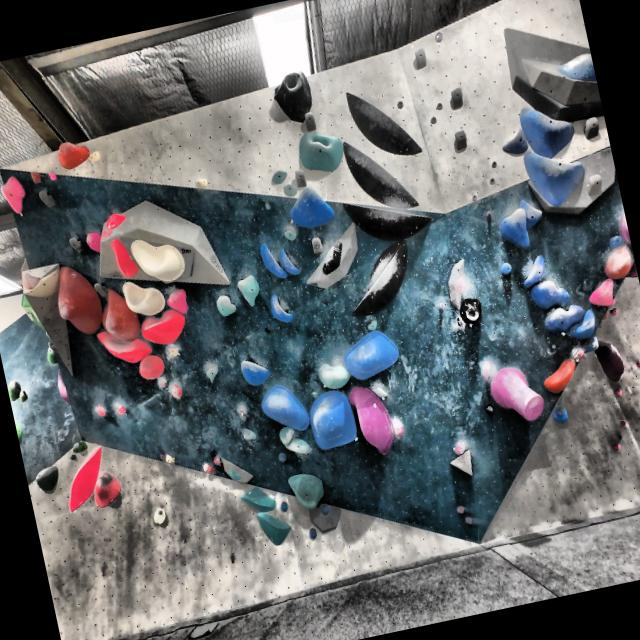Hold: (342, 127, 422, 222), (339, 238, 422, 322), (346, 78, 422, 166), (343, 186, 430, 246), (48, 258, 105, 336), (486, 361, 548, 428), (348, 378, 398, 460), (56, 446, 115, 512), (306, 388, 362, 456), (128, 226, 188, 288), (338, 328, 404, 384), (290, 124, 348, 177), (270, 67, 320, 125), (96, 284, 142, 347), (95, 320, 154, 368), (284, 182, 334, 230), (121, 274, 167, 320), (590, 334, 629, 388), (138, 309, 190, 349), (286, 468, 330, 511), (539, 298, 589, 335), (86, 466, 125, 510), (255, 505, 293, 550), (497, 206, 532, 253), (106, 234, 140, 280), (0, 168, 29, 218), (20, 270, 65, 302), (257, 238, 287, 283), (19, 291, 47, 339), (528, 278, 572, 308), (316, 238, 352, 274), (54, 136, 91, 171), (600, 244, 633, 282), (316, 358, 352, 392), (236, 353, 273, 386), (238, 483, 274, 516), (518, 252, 550, 287), (236, 272, 264, 310), (566, 310, 598, 343), (585, 277, 616, 311), (31, 463, 64, 493), (518, 197, 544, 233), (164, 286, 192, 317), (456, 294, 483, 326), (138, 353, 166, 383), (268, 292, 292, 325), (276, 244, 298, 278), (54, 368, 72, 406), (213, 292, 238, 318), (101, 207, 128, 230), (446, 86, 468, 114), (286, 434, 310, 458), (6, 375, 26, 401), (368, 380, 391, 402), (301, 107, 320, 133), (44, 342, 64, 366), (388, 416, 408, 439), (412, 46, 429, 72), (474, 356, 494, 378), (38, 187, 58, 208), (18, 269, 40, 288), (67, 234, 86, 255), (292, 166, 310, 188), (278, 424, 296, 446), (84, 228, 102, 250), (451, 274, 467, 298), (622, 259, 638, 283), (270, 168, 290, 186), (308, 238, 328, 256), (150, 506, 167, 526), (552, 406, 570, 424), (203, 363, 221, 381), (453, 131, 469, 151), (192, 175, 210, 192), (498, 262, 514, 280), (605, 232, 621, 250), (14, 420, 26, 444), (282, 182, 298, 199), (240, 426, 256, 443), (70, 438, 88, 453), (168, 382, 182, 401), (584, 336, 600, 352), (94, 279, 108, 296), (28, 167, 42, 184), (284, 226, 298, 242), (228, 466, 242, 482), (200, 460, 214, 476), (162, 450, 176, 466), (114, 402, 128, 418), (87, 149, 101, 165), (482, 398, 496, 413), (453, 438, 467, 453), (99, 227, 115, 240), (19, 388, 32, 404), (96, 402, 108, 418), (307, 525, 319, 540), (168, 346, 180, 360), (610, 304, 622, 317), (612, 386, 625, 398), (611, 441, 623, 454), (366, 319, 380, 330), (321, 504, 332, 517), (276, 448, 286, 462), (464, 515, 474, 528), (155, 378, 168, 388), (280, 500, 290, 512), (212, 454, 222, 466), (46, 170, 56, 182), (618, 417, 628, 426), (454, 503, 464, 512), (68, 452, 78, 460), (634, 359, 640, 369)
